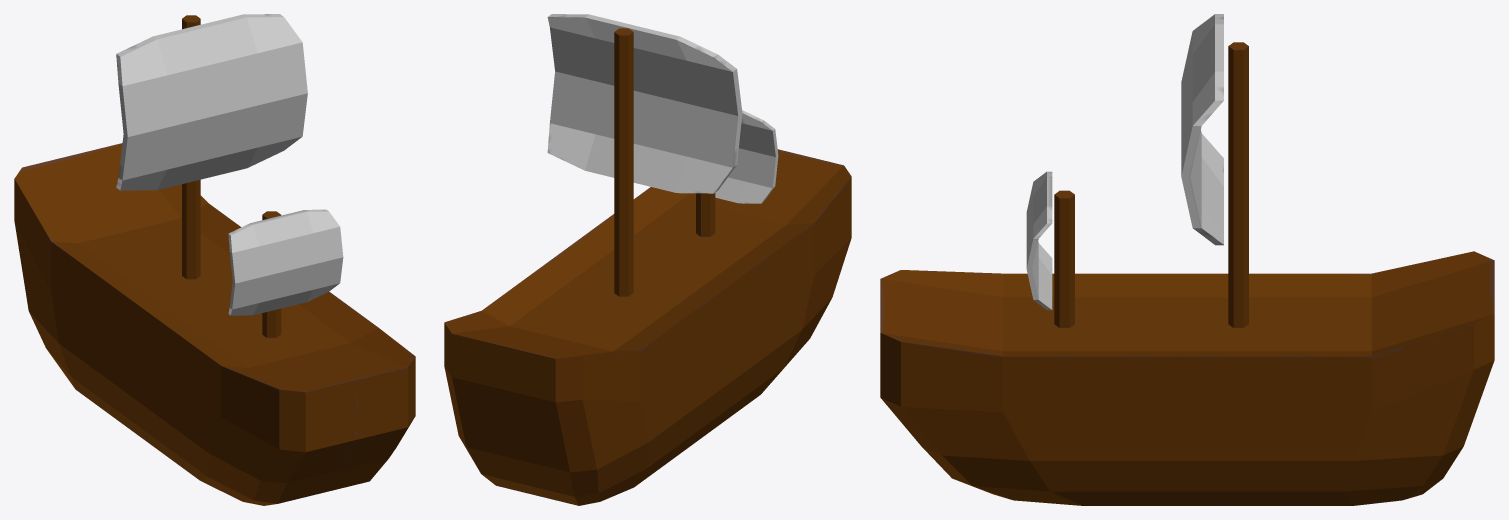
Rendered from player.gltf.
3 renders of one model, left to right at view 1: azimuth 30°, elevation 25°; view 2: azimuth 150°, elevation 25°; view 3: azimuth 270°, elevation 25°, orthographic. The views are drawn at different scales.
Visible parts, largest first — view 1: Cube; view 2: Cube; view 3: Cube.
Part boxes in pixels (bbox=[...]): Cube: bbox=[14, 14, 415, 505]; Cube: bbox=[444, 14, 851, 505]; Cube: bbox=[880, 14, 1494, 505].
Size of the model in its own units: 2.2 by 4.6 by 6.
Materials: 1 (1 with a texture image).
